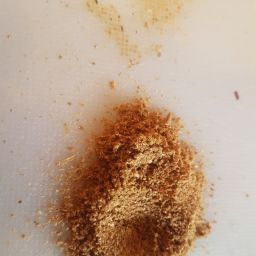Corriander powder: (28, 107, 237, 256), (59, 94, 225, 256)
